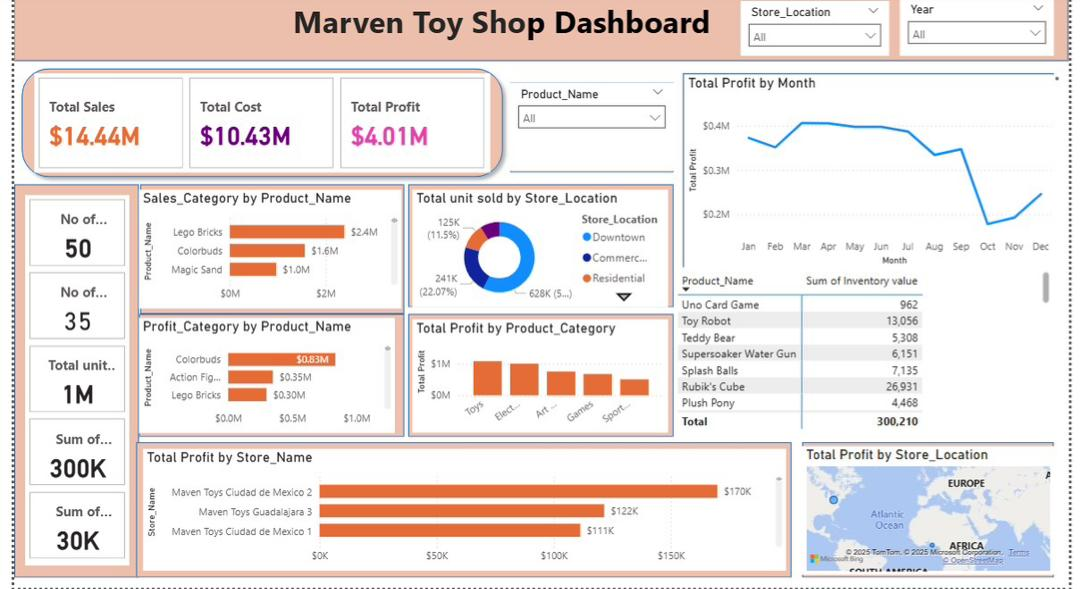

This screenshot's page, from the dashboard's own definition file:
{"tool":"powerbi","page":{"name":"Dashboard","canvas":[1280,720],"ordinal":0},"visuals":[{"type":"shape","box":[0,0,1280,79],"z":0},{"type":"textbox","box":[333.4,0,536.8,66.7],"z":1000},{"type":"shape","box":[0,229.3,151.3,478.2],"z":2000},{"type":"shape","box":[0,79.7,601.8,149.6],"z":3000},{"type":"cardVisual","fields":{"Data":["Sales.Total Sales","Sales.Total Cost","Sales.Total Profit"]},"box":[24.4,94.3,553,120.4],"z":4000},{"type":"cardVisual","fields":{"Data":["Stores.No of Stores","Products.No of Products","Sales.Total unit sold","Sum(Inventory.Inventory value)","Sum(Inventory.Stock_On_Hand)"]},"box":[13,242.4,126.9,450.6],"z":5000},{"type":"shape","box":[152.9,229.3,320.4,157.8],"z":6000},{"type":"shape","box":[151.3,387.1,322.1,149.6],"z":7000},{"type":"barChart","fields":{"Category":["Products.Product_Name"],"Y":["Products.Sales by Category"]},"box":[151.3,235.8,318.8,144.8],"z":8000},{"type":"shape","box":[478.2,229.3,322.1,149.6],"z":9000},{"type":"barChart","fields":{"Y":["Products.Profit_Category"],"Category":["Products.Product_Name"]},"box":[151.3,392,310.7,139.9],"z":10000},{"type":"shape","box":[148,543.3,795.4,164.3],"z":11000},{"type":"shape","box":[478.2,387.1,322.1,149.6],"z":12000},{"type":"columnChart","fields":{"Category":["Products.Product_Category"],"Y":["Sales.Profit"]},"box":[483.1,393.6,310.7,138.3],"z":13000},{"type":"barChart","fields":{"Y":["Sales.Profit"],"Category":["Stores.Store_Name"]},"box":[156.1,551.4,780.7,148],"z":14000},{"type":"donutChart","fields":{"Category":["Stores.Store_Location"],"Y":["Sales.Total unit sold"]},"box":[483.1,235.8,310.7,143.1],"z":15000},{"type":"shape","box":[956.4,543.3,305.8,164.3],"z":16000},{"type":"map","fields":{"Category":["Stores.Store_Location"],"Size":["Sales.Profit"]},"box":[956.4,548.1,305.8,156.1],"z":17000},{"type":"shape","box":[811.6,330.2,450.6,201.7],"z":18000},{"type":"shape","box":[811.6,94.3,450.6,235.8],"z":19000},{"type":"pivotTable","fields":{"Values":["Sum(Inventory.Inventory value)"],"Rows":["Products.Product_Name"]},"box":[800.3,330.2,461.9,201.7],"z":20000},{"type":"lineChart","fields":{"Category":["Date_Table.Month"],"Y":["Sales.Profit"]},"box":[813.3,96,450.6,235.8],"z":21000},{"type":"slicer","fields":{"Values":["Date_Table.Year"]},"box":[1075.1,3.3,187.1,69.9],"z":22000},{"type":"slicer","fields":{"Values":["Stores.Store_Location"]},"box":[881.6,6.5,180.5,66.7],"z":23000},{"type":"shape","box":[601.8,105.7,198.4,109],"z":24000},{"type":"slicer","fields":{"Values":["Products.Product_Name"]},"box":[601.8,105.7,198.4,107.4],"z":25000}]}

Visuals, with their boxes in screenshot pixels (x1, y1, x2, y2):
shape: crop(11, 0, 1079, 58)
textbox: crop(290, 0, 738, 47)
shape: crop(11, 183, 138, 582)
shape: crop(11, 58, 514, 183)
cardVisual - Sales.Total Sales x Sales.Total Cost: crop(32, 70, 493, 171)
cardVisual - Stores.No of Stores x Products.No of Products: crop(22, 194, 128, 570)
shape: crop(139, 183, 406, 315)
shape: crop(138, 315, 406, 440)
barChart - Products.Product_Name x Products.Sales by Category: crop(138, 188, 404, 309)
shape: crop(410, 183, 679, 308)
barChart - Products.Profit_Category x Products.Product_Name: crop(138, 319, 397, 436)
shape: crop(135, 445, 799, 582)
shape: crop(410, 315, 679, 440)
columnChart - Products.Product_Category x Sales.Profit: crop(414, 320, 674, 436)
barChart - Sales.Profit x Stores.Store_Name: crop(142, 452, 793, 575)
donutChart - Stores.Store_Location x Sales.Total unit sold: crop(414, 188, 674, 308)
shape: crop(810, 445, 1065, 582)
map - Stores.Store_Location x Sales.Profit: crop(810, 449, 1065, 579)
shape: crop(689, 267, 1065, 436)
shape: crop(689, 70, 1065, 267)
pivotTable - Sum(Inventory.Inventory value) x Products.Product_Name: crop(679, 267, 1065, 436)
lineChart - Date_Table.Month x Sales.Profit: crop(690, 72, 1066, 269)
slicer - Date_Table.Year: crop(909, 0, 1065, 53)
slicer - Stores.Store_Location: crop(747, 0, 898, 53)
shape: crop(514, 80, 679, 171)
slicer - Products.Product_Name: crop(514, 80, 679, 169)
